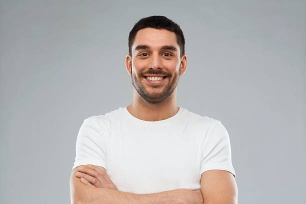male: (126, 20, 184, 107)
